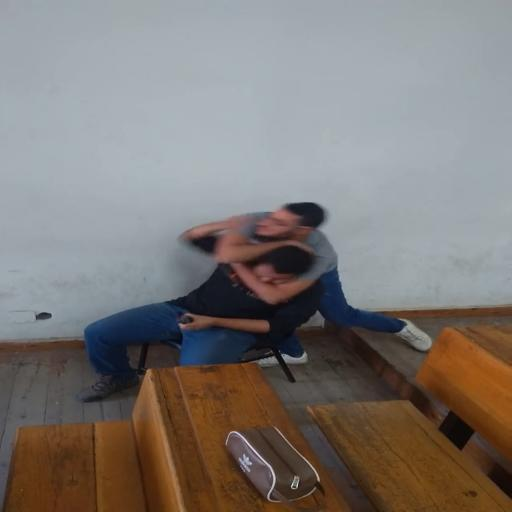violencia: (36, 182, 475, 416)
